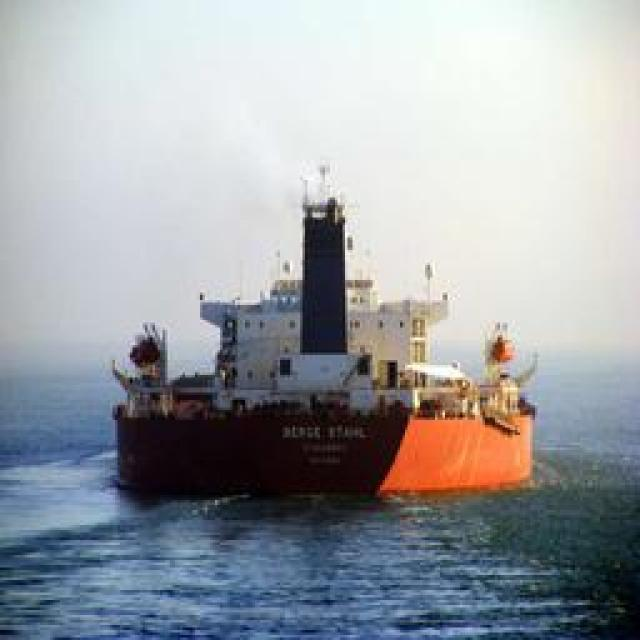ship2: (104, 164, 540, 502)
